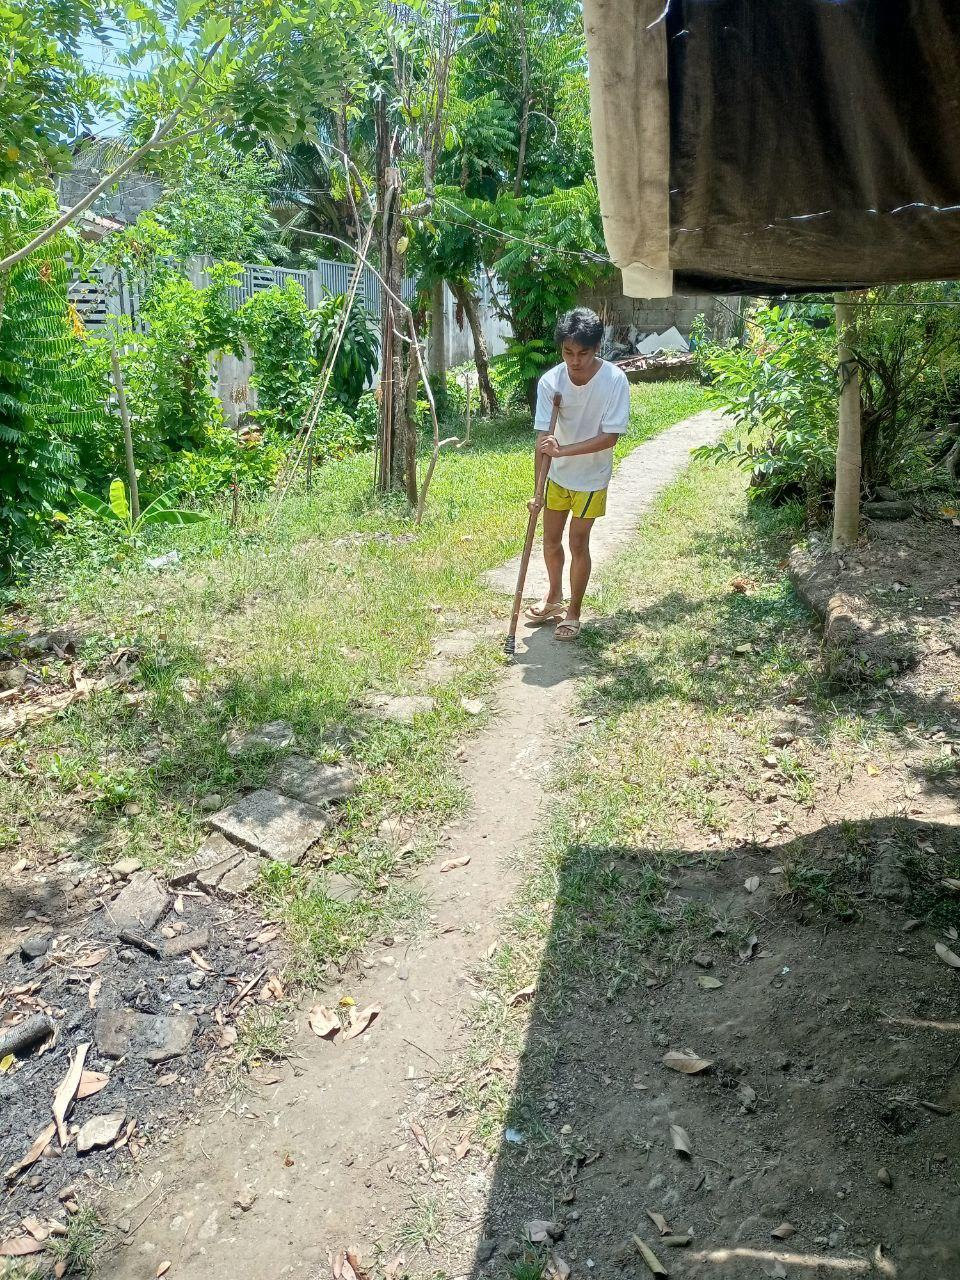crutches: (498, 300, 643, 662)
